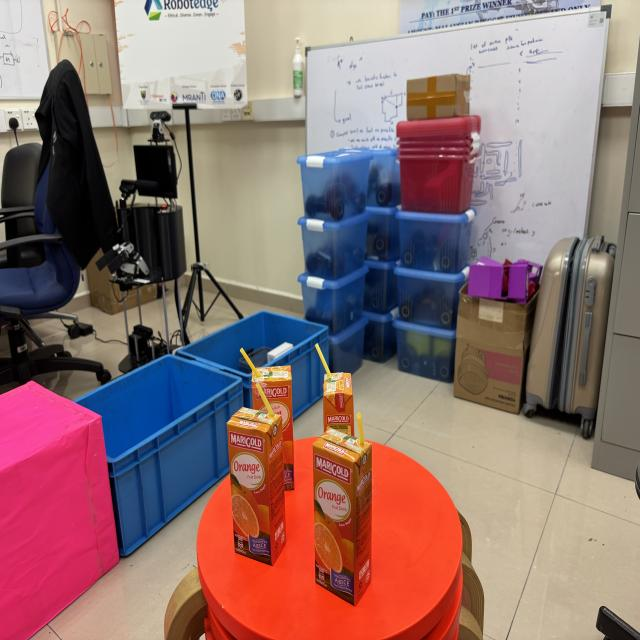drink_carton: (310, 408, 376, 616), (226, 375, 293, 574), (238, 341, 296, 498), (315, 336, 355, 436)
